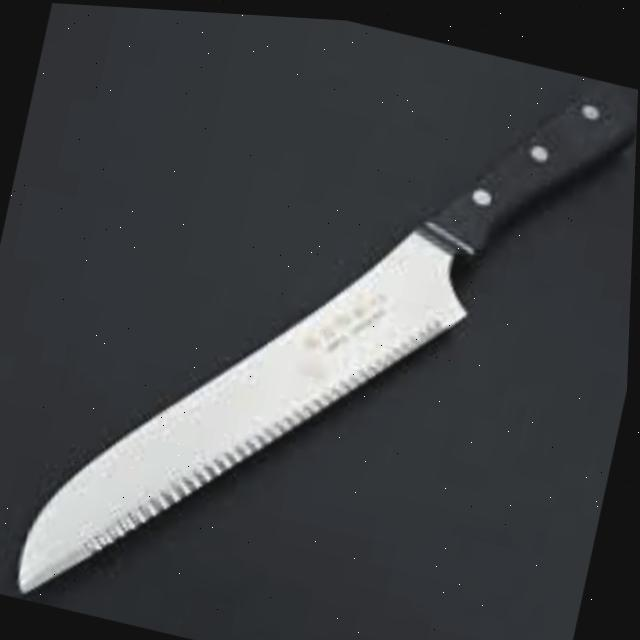knife: (14, 2, 640, 640)
